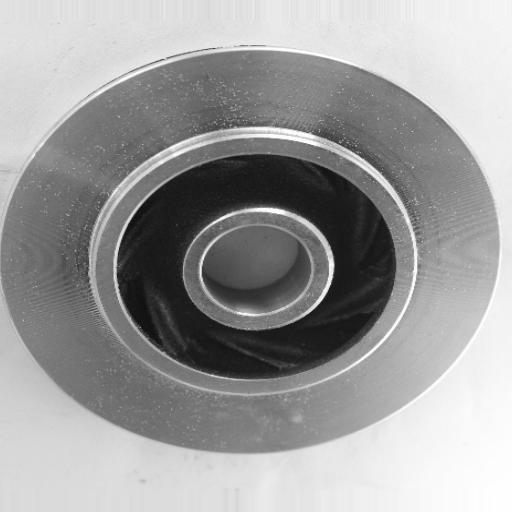polished_casting: (2, 44, 500, 456)
